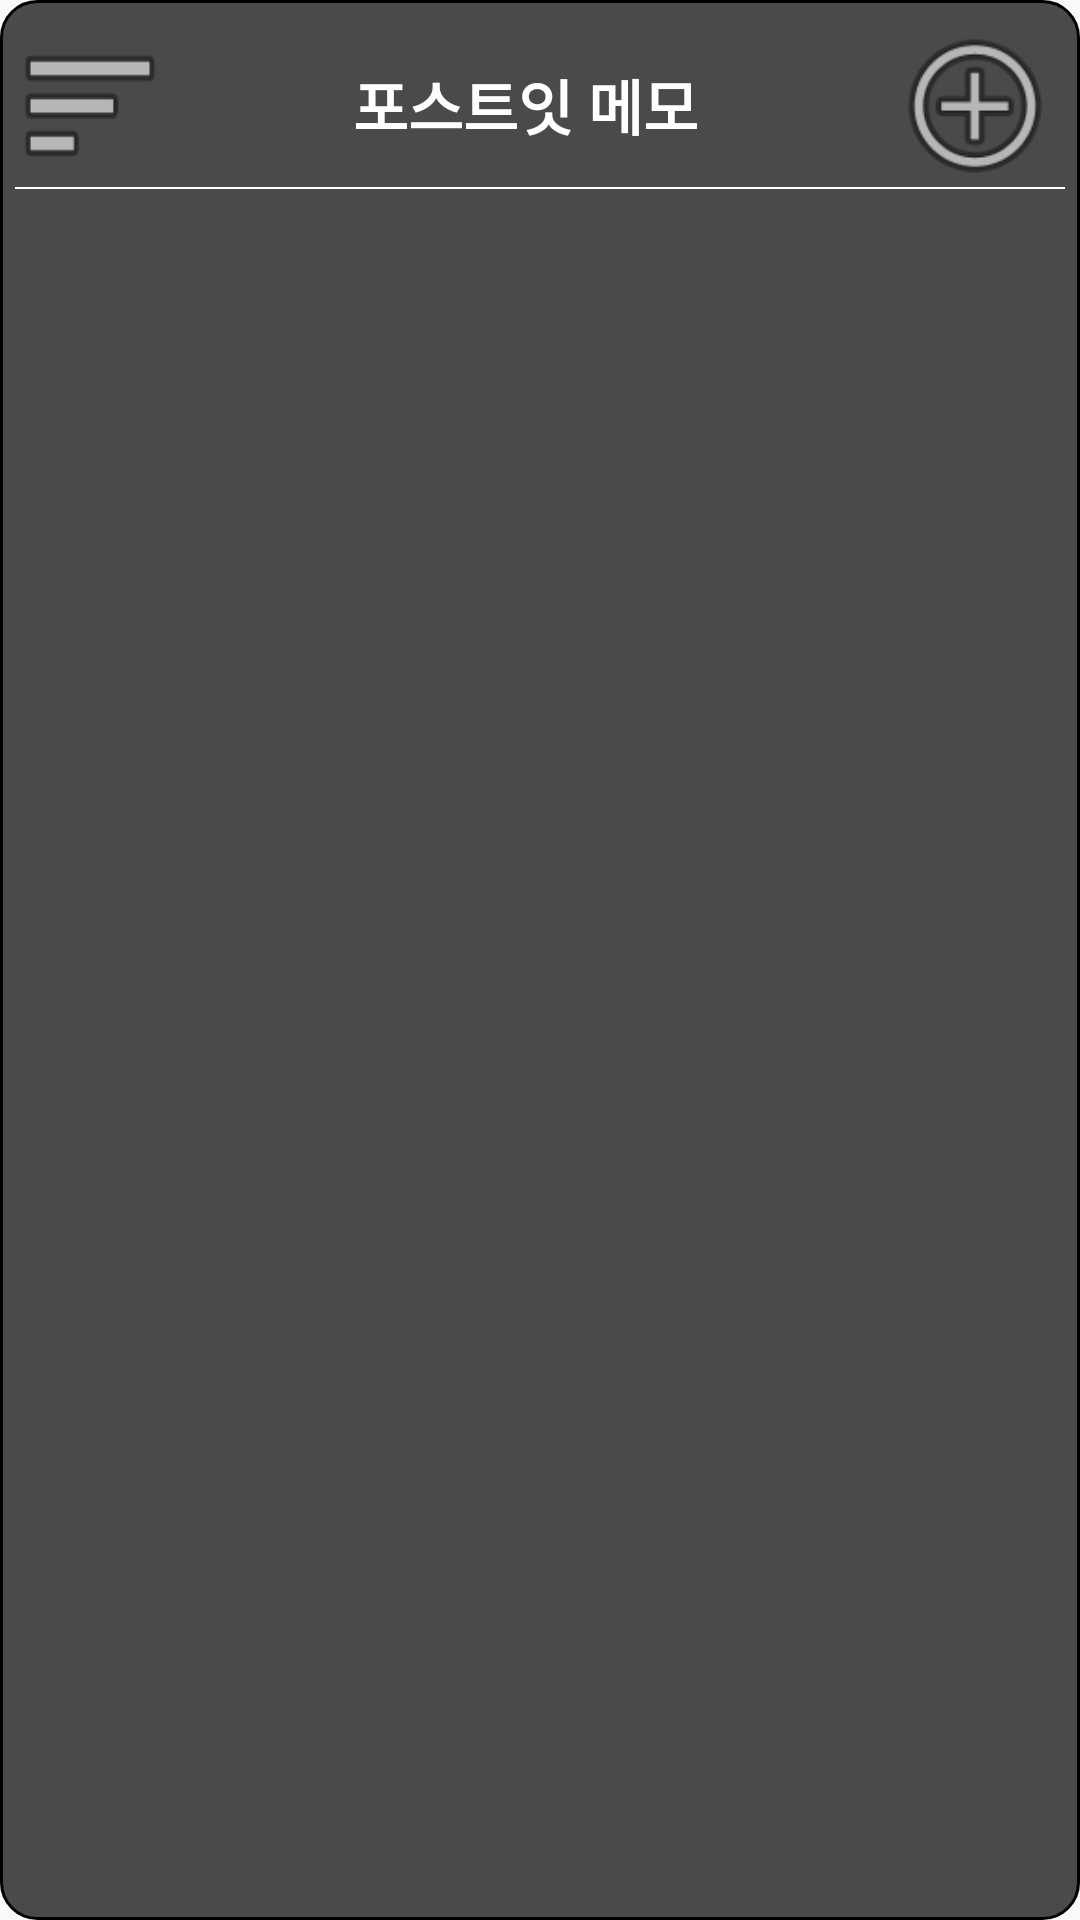

Locate icon controls on the screen. Image size 1080 x 1920, boxes as (x1, y1, x2, y2).
add: (910, 40, 1040, 172)
sort by size: (26, 57, 154, 155)
